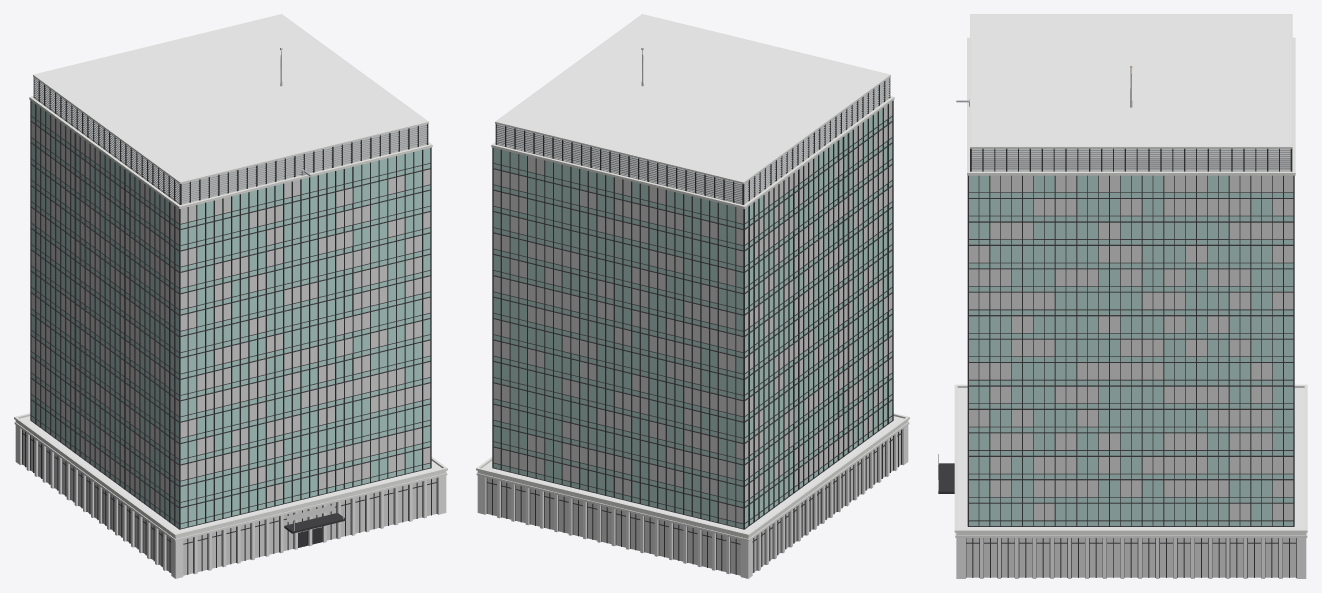
The model's file is tower_big235.glb.
3 views of the same model, side by side, from view 1: azimuth 30°, elevation 25°; view 2: azimuth 150°, elevation 25°; view 3: azimuth 270°, elevation 25° (orthographic). The views are drawn at different scales.
Visible parts, largest first — view 1: tower_big235_Glass, tower_big235_Frames, tower_big235_WindowsLit, tower_big235_Roof, tower_big235_Walls2, tower_big235_Details, tower_big235_Trim, tower_big235_Accent; view 2: tower_big235_Glass, tower_big235_Frames, tower_big235_WindowsLit, tower_big235_Roof, tower_big235_Walls2, tower_big235_Details, tower_big235_Trim; view 3: tower_big235_Glass, tower_big235_WindowsLit, tower_big235_Roof, tower_big235_Frames, tower_big235_Trim, tower_big235_Details, tower_big235_Walls2, tower_big235_Accent.
Boxes of the visible parts, x1,y1,x2,y2 form: tower_big235_Glass: (31, 101, 430, 528); tower_big235_Frames: (22, 77, 437, 574); tower_big235_WindowsLit: (23, 116, 436, 575); tower_big235_Roof: (20, 14, 441, 533); tower_big235_Walls2: (15, 420, 446, 578); tower_big235_Details: (34, 50, 427, 530); tower_big235_Trim: (14, 14, 447, 541); tower_big235_Accent: (284, 513, 345, 533); tower_big235_Glass: (493, 108, 892, 528); tower_big235_Frames: (486, 77, 901, 574); tower_big235_WindowsLit: (487, 101, 900, 575); tower_big235_Roof: (482, 14, 903, 533); tower_big235_Walls2: (477, 420, 908, 578); tower_big235_Details: (496, 50, 889, 203); tower_big235_Trim: (476, 14, 909, 541); tower_big235_Glass: (969, 175, 1293, 525); tower_big235_WindowsLit: (966, 175, 1295, 577); tower_big235_Roof: (957, 14, 1304, 529); tower_big235_Frames: (966, 148, 1296, 577); tower_big235_Trim: (954, 14, 1307, 537); tower_big235_Details: (938, 68, 1290, 490); tower_big235_Walls2: (956, 532, 1306, 578); tower_big235_Accent: (938, 463, 954, 493).
Size of the model in its own units: 173 by 260 by 186.
